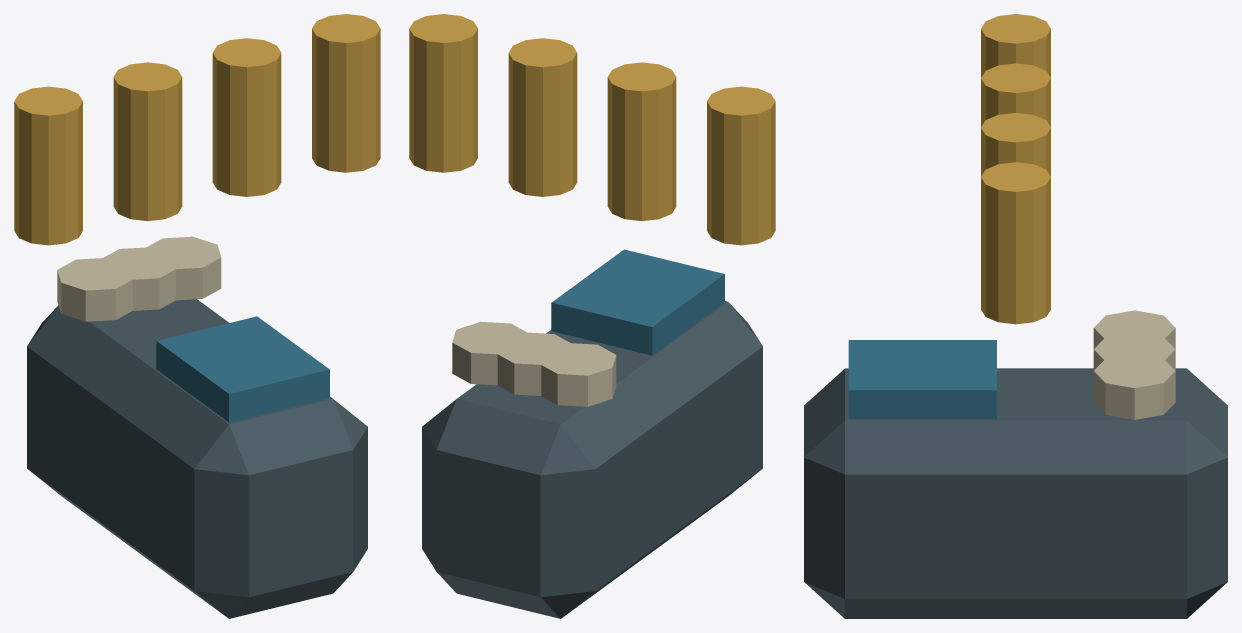
Rendered from set_battery_pack.glb.
3 renders of one model, left to right at view 1: azimuth 30°, elevation 25°; view 2: azimuth 150°, elevation 25°; view 3: azimuth 270°, elevation 25°, orthographic. The views are drawn at different scales.
Visible parts, largest first — view 1: set_battery_pack; view 2: set_battery_pack; view 3: set_battery_pack.
Part boxes in pixels (bbox=[...]): set_battery_pack: bbox=[14, 14, 380, 618]; set_battery_pack: bbox=[409, 14, 775, 618]; set_battery_pack: bbox=[804, 14, 1227, 618].
Size of the model in its own units: 0.144 by 0.185 by 0.145.
